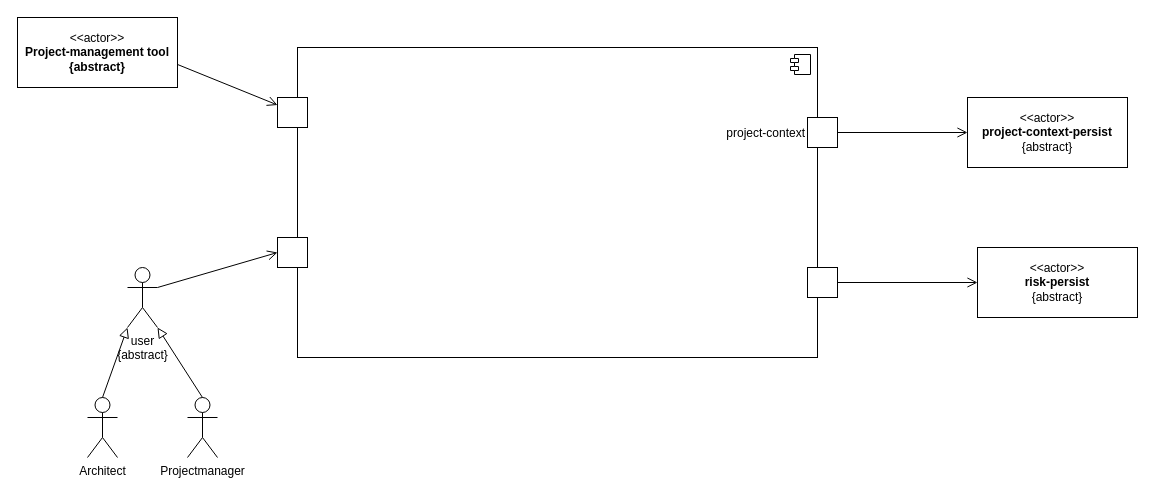
The diagram is 1155 pixels wide and 496 high, and some of its shapes have lost their labels. Each missing label, with the centre of its shape:
"api" goes at point (292, 112).
"risk" goes at point (822, 282).
"ui" goes at point (292, 252).
"«system» risk-manager" goes at point (557, 202).
